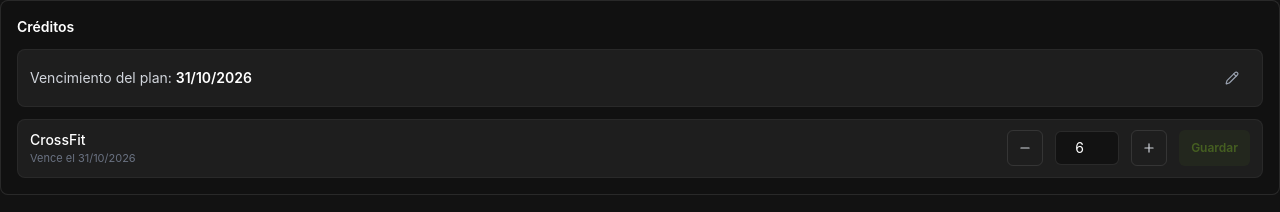
CreditosEditablesSocio -- "Vencimiento del plan" (CAMBIO 3) › ACORTAR la fecha: "Vencimiento del plan" muestra la nueva, aunque el espejo de Aparatos del modal siga con la vieja
Expected: the text "CrossFit" is shown, [30,131,86,148]
Step 1. Click the button named "Editar vencimiento del plan" → (1232, 78), box [1214,60,1250,96]
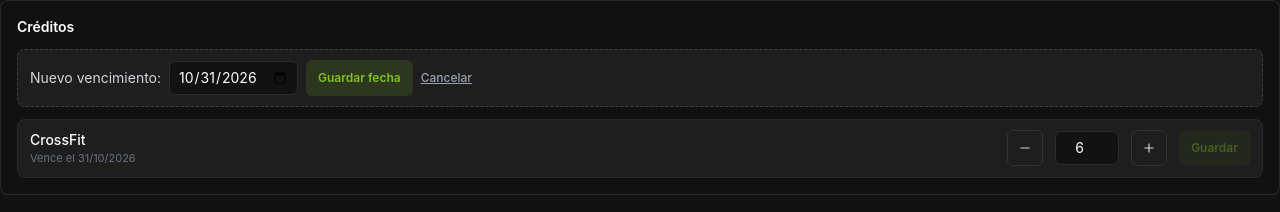
Step 2. Type "2026-10-27" into the date field named "Nueva fecha de vencimiento del plan" → (234, 78), box [169,61,298,95]
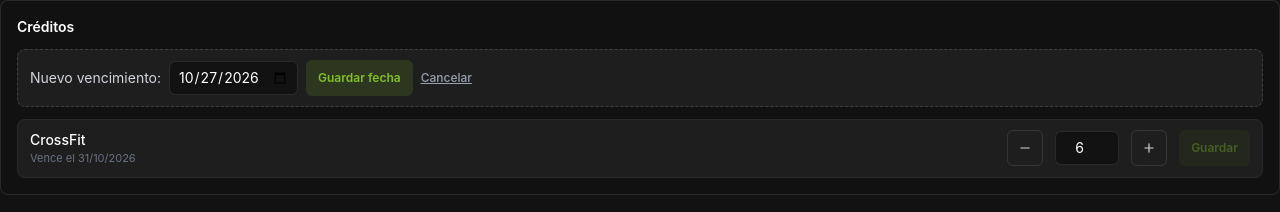
Step 3. Click the button "Guardar fecha" → (359, 78), box [306,60,413,96]
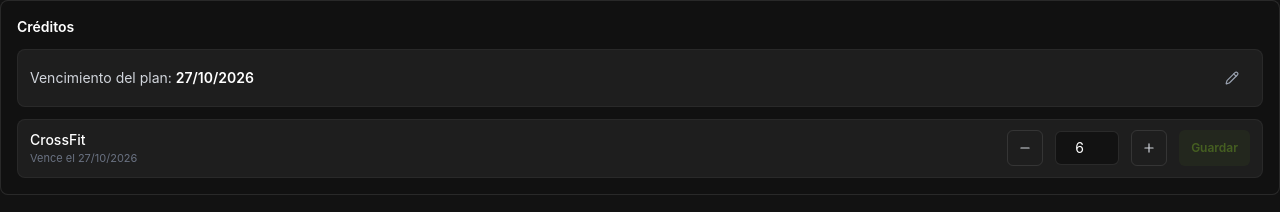
Expected: the text "27/10/2026" is shown, [176,69,254,86]
Expected: the text "31/10/2026" is gone
